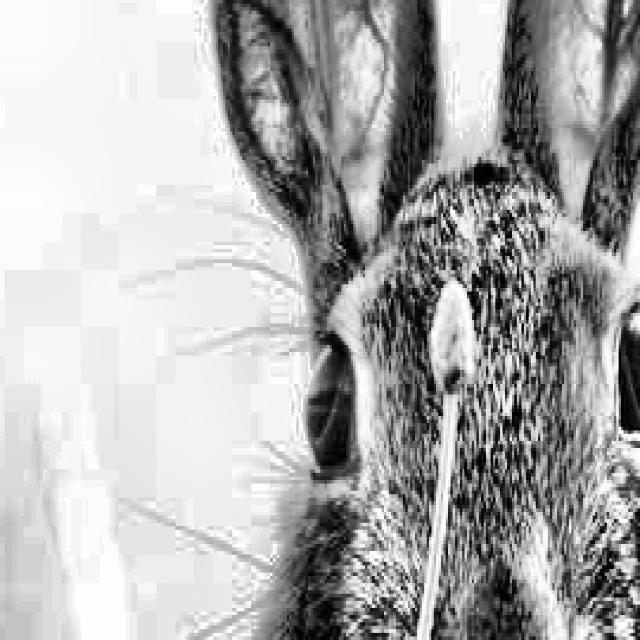rabbit: (123, 0, 640, 640)
